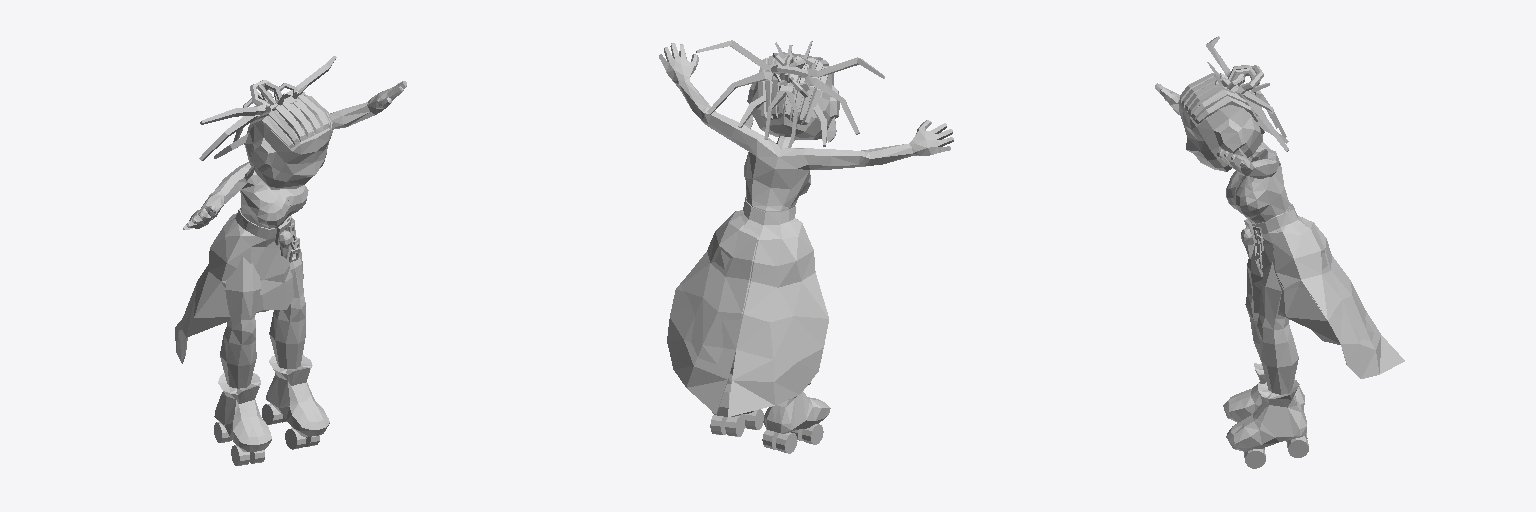
Rendered from bruja_000093.obj.
The picture shows the model from 3 angles: view 1: azimuth 30°, elevation 25°; view 2: azimuth 150°, elevation 25°; view 3: azimuth 270°, elevation 25°; orthographic projection.
Parts seen in each view (by area): view 1: Bruja_Plane.001; view 2: Bruja_Plane.001; view 3: Bruja_Plane.001.
Part boxes in pixels (left/top/right/bottom): Bruja_Plane.001: left=175, top=56, right=406, bottom=465; Bruja_Plane.001: left=659, top=40, right=953, bottom=453; Bruja_Plane.001: left=1155, top=36, right=1404, bottom=468.
Bounding box in the file's own units: 11.34 × 16.17 × 9.62.